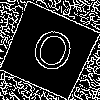O: (24, 25, 78, 84)
